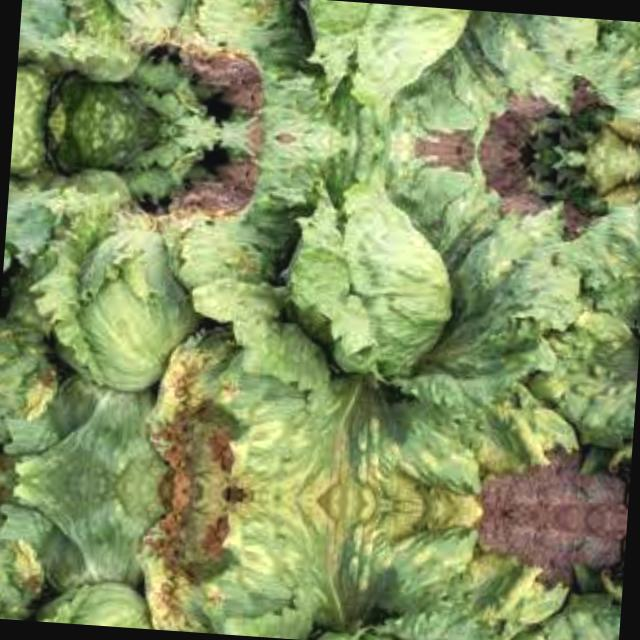Lettuce - Anthracnose: (95, 125, 592, 518), (121, 0, 603, 159), (86, 483, 568, 640)
